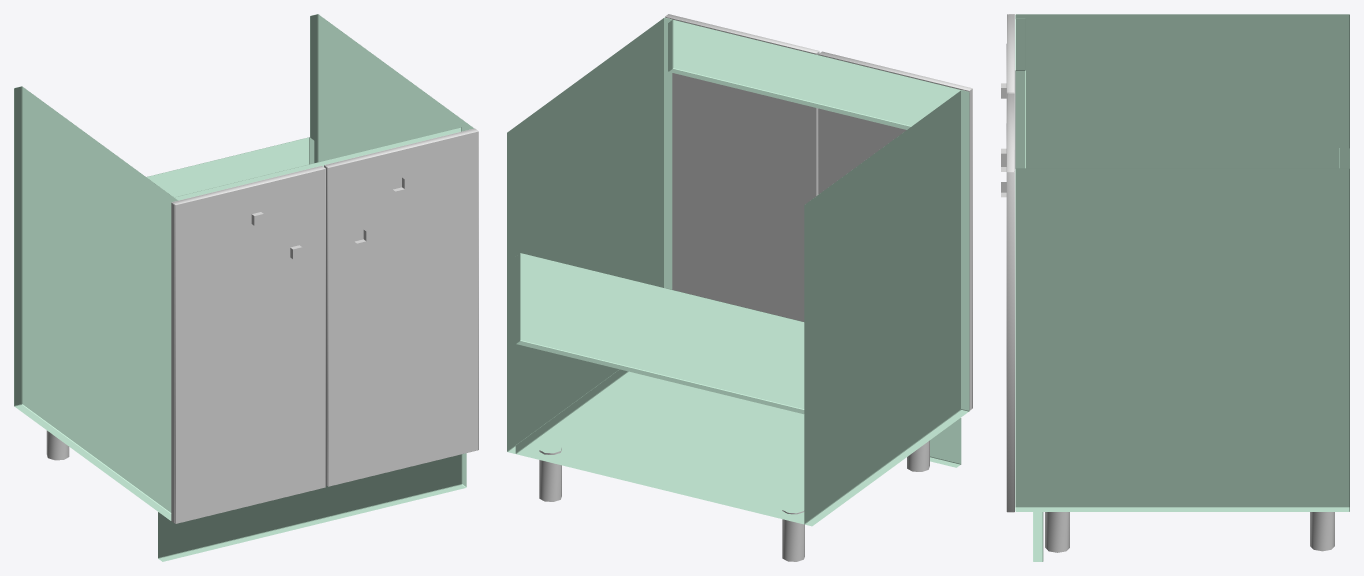
3 renders of one model, left to right at view 1: azimuth 30°, elevation 25°; view 2: azimuth 150°, elevation 25°; view 3: azimuth 270°, elevation 25°, orthographic. The views are drawn at different scales.
Parts seen in each view (by area): view 1: M_CL_4, M_CL_1_F.004, M_CL_1_F.003, M_CL_1_F_C.003, M_CL_1_F_C.004; view 2: M_CL_4, M_CL_1_F_A.004, M_CL_1_F_B.004, M_CL_1_F_A.003, Legs.003, M_CL_1_F_C.004, M_CL_1_F_C.003, M_CL_1_F.003, M_CL_1_F.004; view 3: M_CL_4, M_CL_1_F.004, Legs.003, M_CL_1_F.003.
Part boxes in pixels (left/top/right/bottom): M_CL_4: left=14, top=14, right=473, bottom=561; M_CL_1_F.004: left=325, top=128, right=478, bottom=486; M_CL_1_F.003: left=172, top=166, right=325, bottom=523; M_CL_1_F_C.003: left=171, top=203, right=174, bottom=522; M_CL_1_F_C.004: left=324, top=165, right=327, bottom=485; M_CL_4: left=507, top=17, right=969, bottom=526; M_CL_1_F_A.004: left=665, top=16, right=817, bottom=306; M_CL_1_F_B.004: left=741, top=35, right=818, bottom=321; M_CL_1_F_A.003: left=818, top=54, right=971, bottom=193; Legs.003: left=539, top=440, right=929, bottom=561; M_CL_1_F_C.004: left=666, top=17, right=819, bottom=293; M_CL_1_F_C.003: left=818, top=54, right=972, bottom=410; M_CL_1_F.003: left=818, top=51, right=972, bottom=408; M_CL_1_F.004: left=665, top=14, right=819, bottom=53; M_CL_4: left=1015, top=14, right=1349, bottom=561; M_CL_1_F.004: left=1006, top=93, right=1014, bottom=512; Legs.003: left=1045, top=512, right=1334, bottom=552; M_CL_1_F.003: left=1006, top=14, right=1014, bottom=122.
Size of the model in its own units: 5.27 by 6.09 by 4.91.
